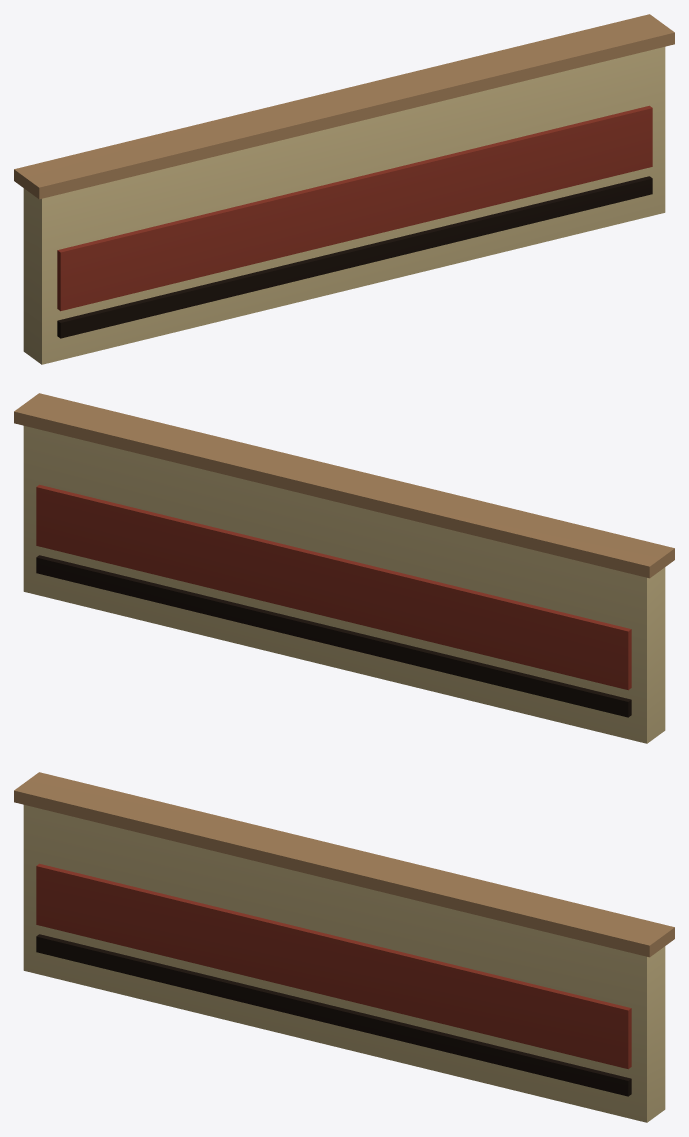
Rendered from moche_frieze_lod0.glb.
3 renders of one model, top to bottom at view 1: azimuth 30°, elevation 25°; view 2: azimuth 150°, elevation 25°; view 3: azimuth 330°, elevation 25°, orthographic.
Parts seen in each view (by area): view 1: GEO-Arch_moche_frieze_LOD0; view 2: GEO-Arch_moche_frieze_LOD0; view 3: GEO-Arch_moche_frieze_LOD0.
Boxes of the visible parts, x1,y1,x2,y2 form: GEO-Arch_moche_frieze_LOD0: [14, 14, 674, 364]; GEO-Arch_moche_frieze_LOD0: [14, 393, 674, 743]; GEO-Arch_moche_frieze_LOD0: [14, 772, 674, 1122].
Size of the model in its own units: 10.2 by 2.78 by 0.6998.
